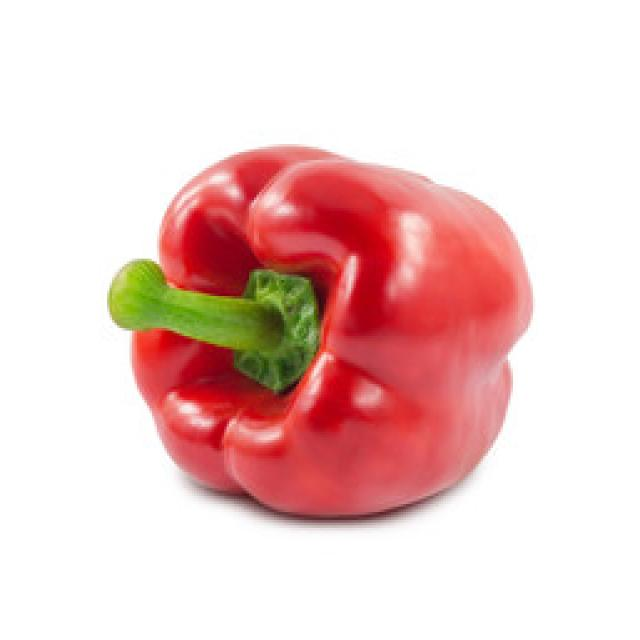Bell Pepper: (112, 142, 540, 518)
